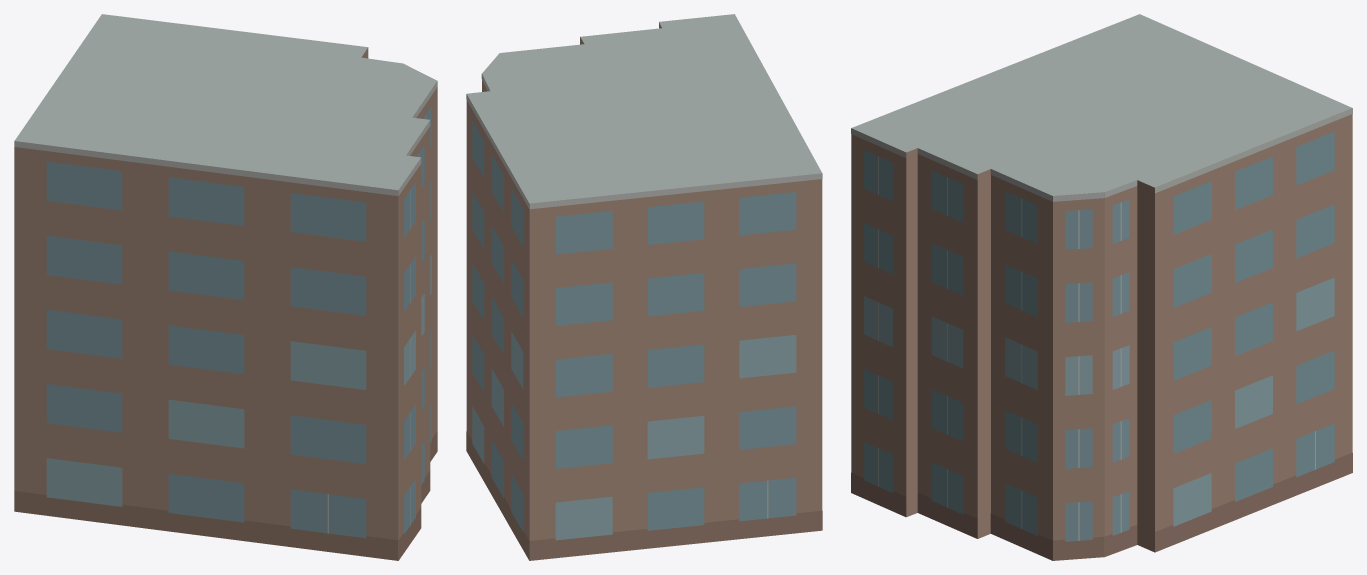
File: survey-upis-32998616.glb
3 views of the same model, side by side, from view 1: azimuth 30°, elevation 25°; view 2: azimuth 150°, elevation 25°; view 3: azimuth 270°, elevation 25° (orthographic). The views are drawn at different scales.
Parts seen in each view (by area): view 1: survey-upis-32998616.tmp; view 2: survey-upis-32998616.tmp; view 3: survey-upis-32998616.tmp.
Part boxes in pixels (box(x1,y1,x2,y2)): survey-upis-32998616.tmp: box(14, 14, 437, 560); survey-upis-32998616.tmp: box(466, 14, 822, 560); survey-upis-32998616.tmp: box(851, 14, 1352, 560).
Size of the model in its own units: 16.39 by 15.3 by 19.07.
